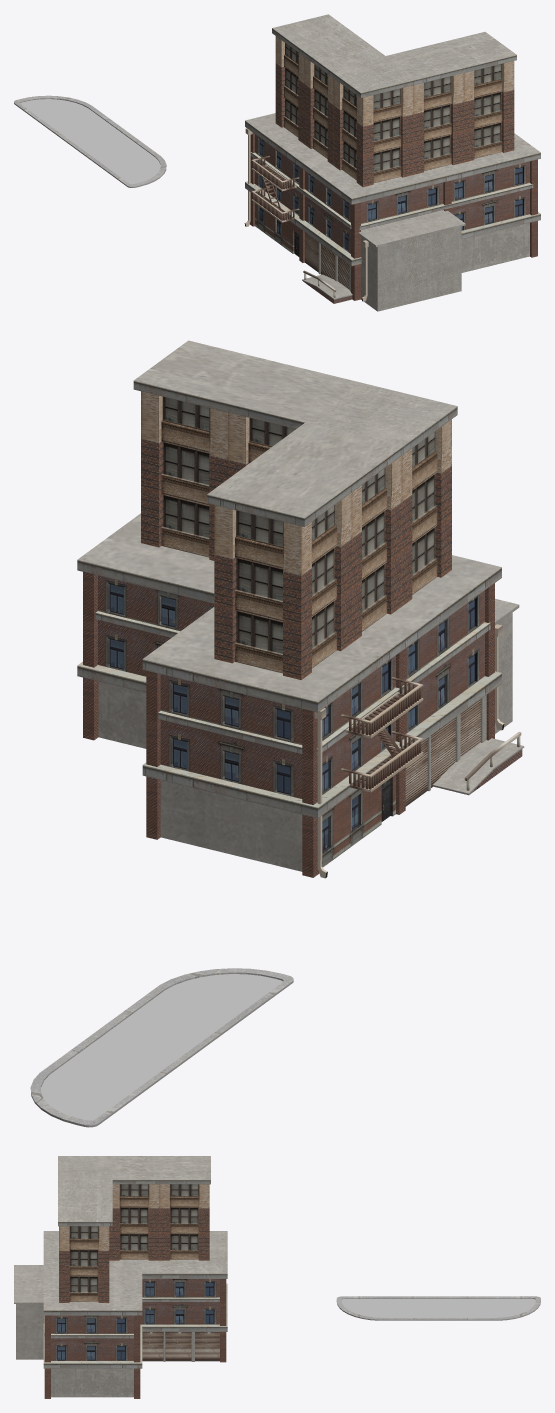
Rendered from Building3.fbx.
The picture shows the model from 3 angles, top to bottom: view 1: azimuth 30°, elevation 25°; view 2: azimuth 150°, elevation 25°; view 3: azimuth 270°, elevation 25°; orthographic projection. The views are drawn at different scales.
Parts seen in each view (by area): view 1: Atlas.005, road main.017; view 2: Atlas.005, road main.017; view 3: Atlas.005, road main.017.
Boxes of the visible parts, left/top/right/bottom form: Atlas.005: left=244, top=14, right=540, bottom=311; road main.017: left=14, top=95, right=166, bottom=187; Atlas.005: left=77, top=340, right=524, bottom=878; road main.017: left=30, top=968, right=293, bottom=1127; Atlas.005: left=14, top=1156, right=227, bottom=1398; road main.017: left=336, top=1296, right=540, bottom=1320.
Size of the model in its own units: 2588 by 2046 by 5696.
